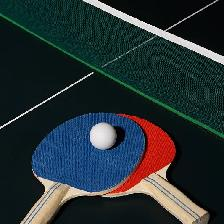WhiteBall: (88, 122, 116, 150)
